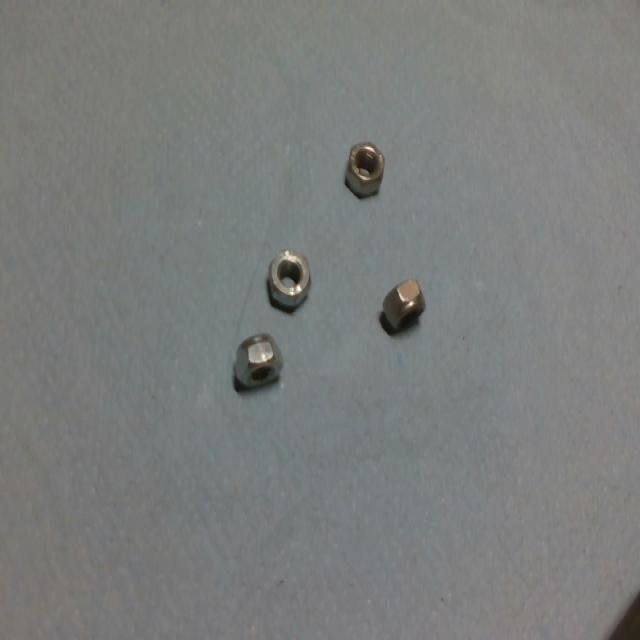Nut: (233, 333, 284, 391), (377, 275, 426, 335), (267, 249, 311, 309), (343, 143, 385, 199)
